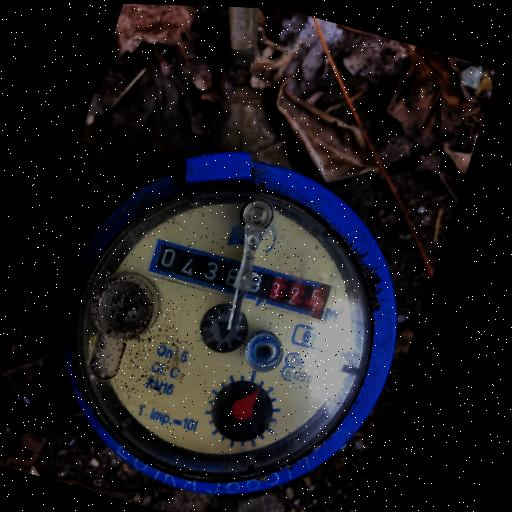0: (155, 244, 181, 273)
2: (282, 280, 307, 308)
3: (242, 267, 268, 297), (199, 257, 225, 286), (264, 274, 287, 302)
4: (175, 249, 202, 280)
5: (299, 281, 330, 320)
8: (219, 262, 246, 292)
border_water_meter_number: (141, 235, 341, 325)
